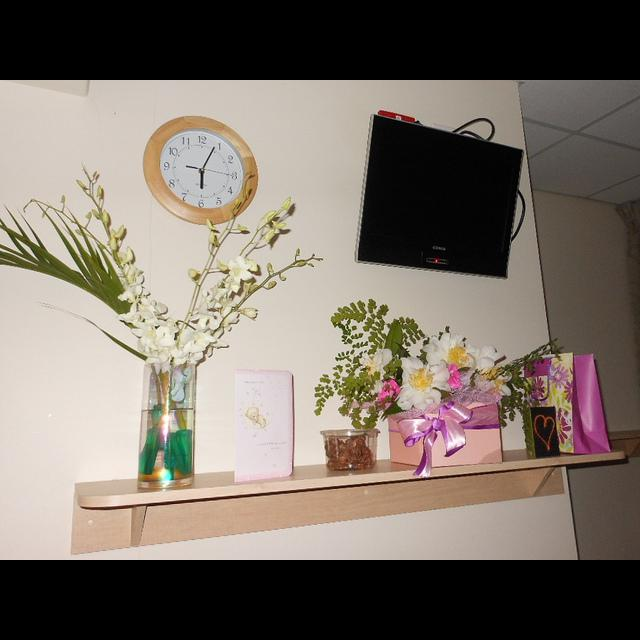Flat-Panel-TV: (355, 116, 524, 280)
